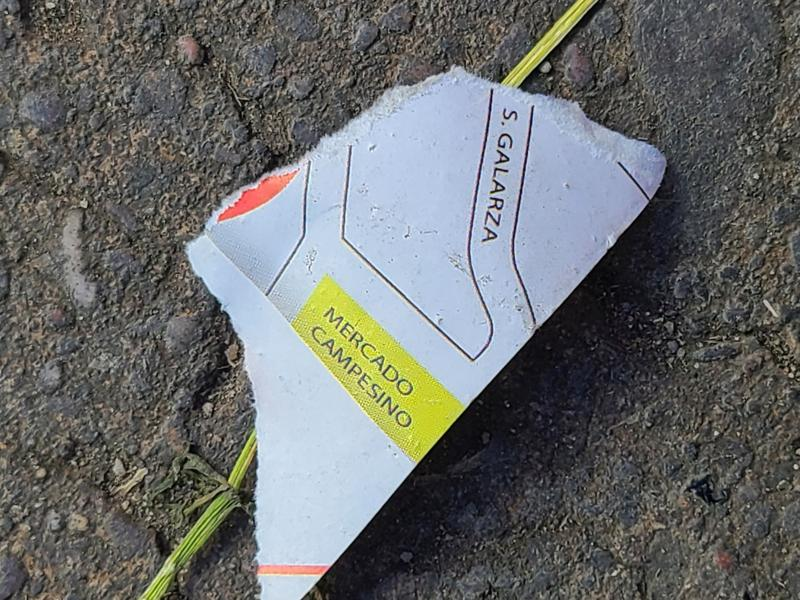papel: (183, 68, 669, 600)
